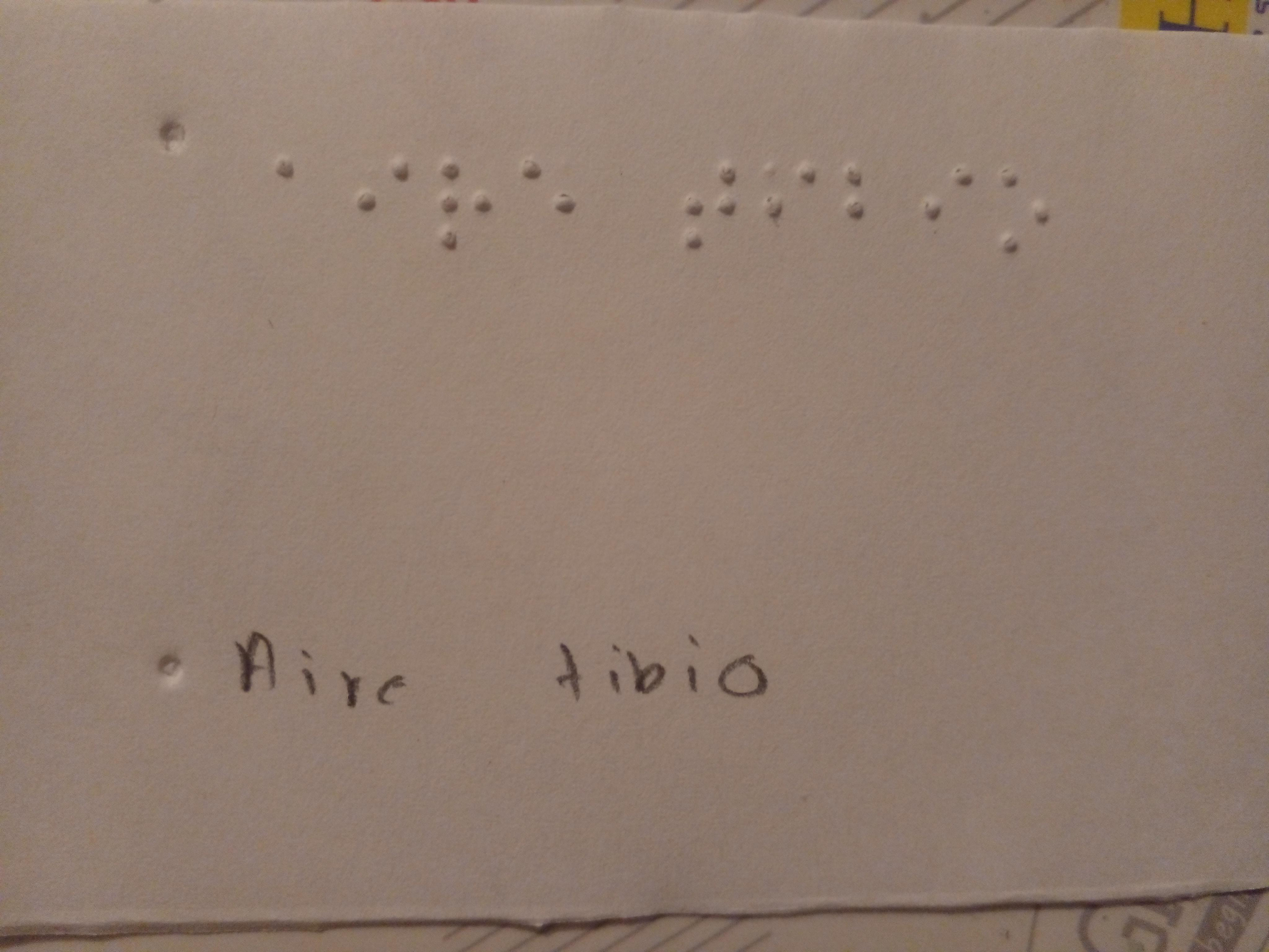a: (257, 130, 314, 212)
b: (832, 144, 883, 236)
e: (510, 144, 581, 239)
i: (905, 155, 982, 239), (345, 152, 418, 226), (756, 147, 819, 232)
o: (985, 163, 1061, 267)
r: (431, 147, 502, 251)
t: (671, 146, 744, 254)
